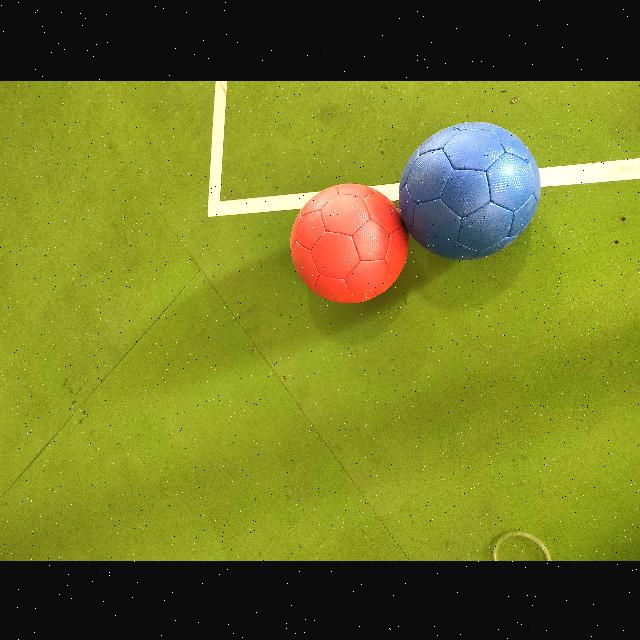B: (398, 122, 540, 258)
R: (291, 182, 407, 302)
